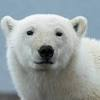PolarBear: (0, 13, 99, 87)
